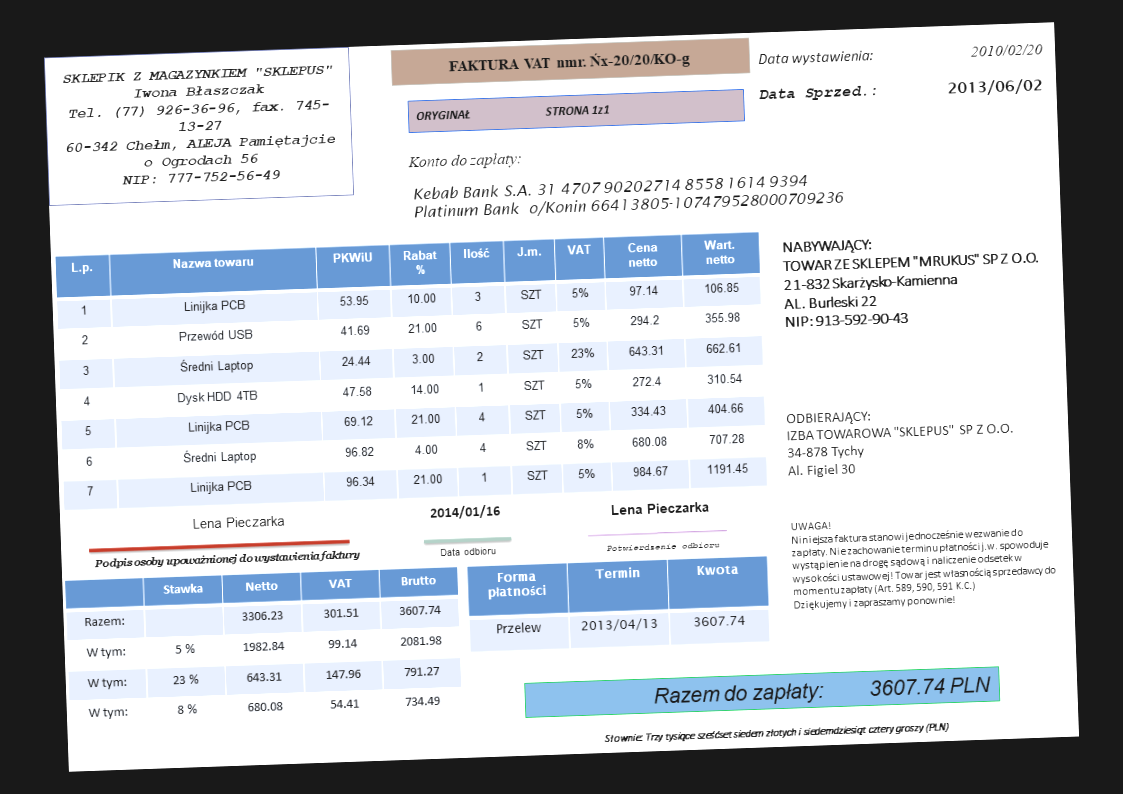Table: (53, 230, 770, 512), (63, 565, 463, 733), (466, 555, 772, 653)
TextBox: (60, 58, 340, 190), (787, 510, 1057, 614), (779, 230, 1044, 333), (411, 169, 847, 221), (783, 402, 1016, 480), (649, 673, 994, 708), (602, 718, 949, 747), (446, 48, 693, 78), (92, 546, 363, 573), (413, 101, 613, 125), (406, 149, 523, 174), (758, 82, 878, 105), (756, 47, 874, 67), (607, 497, 710, 519), (945, 76, 1043, 96), (605, 537, 720, 554), (190, 512, 286, 532), (968, 41, 1044, 59), (427, 503, 503, 521), (438, 543, 498, 560)
